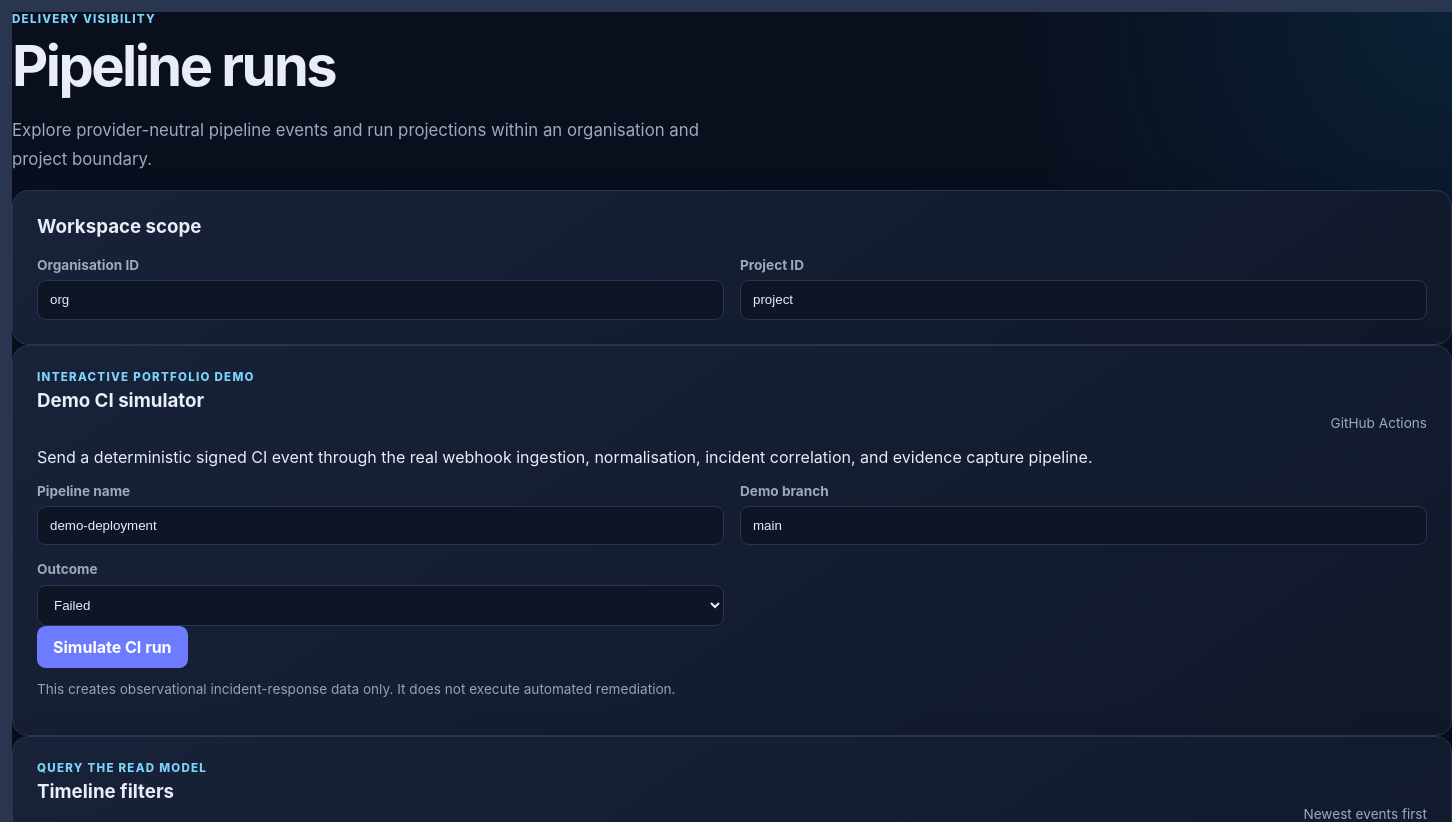
it: Pipeline browser CI simulator › shows the pending state while simulation is running
This screenshot has width=1452, height=822.
Click the button "Simulate CI run" at point(112, 647), box left=37, top=626, right=188, bottom=668
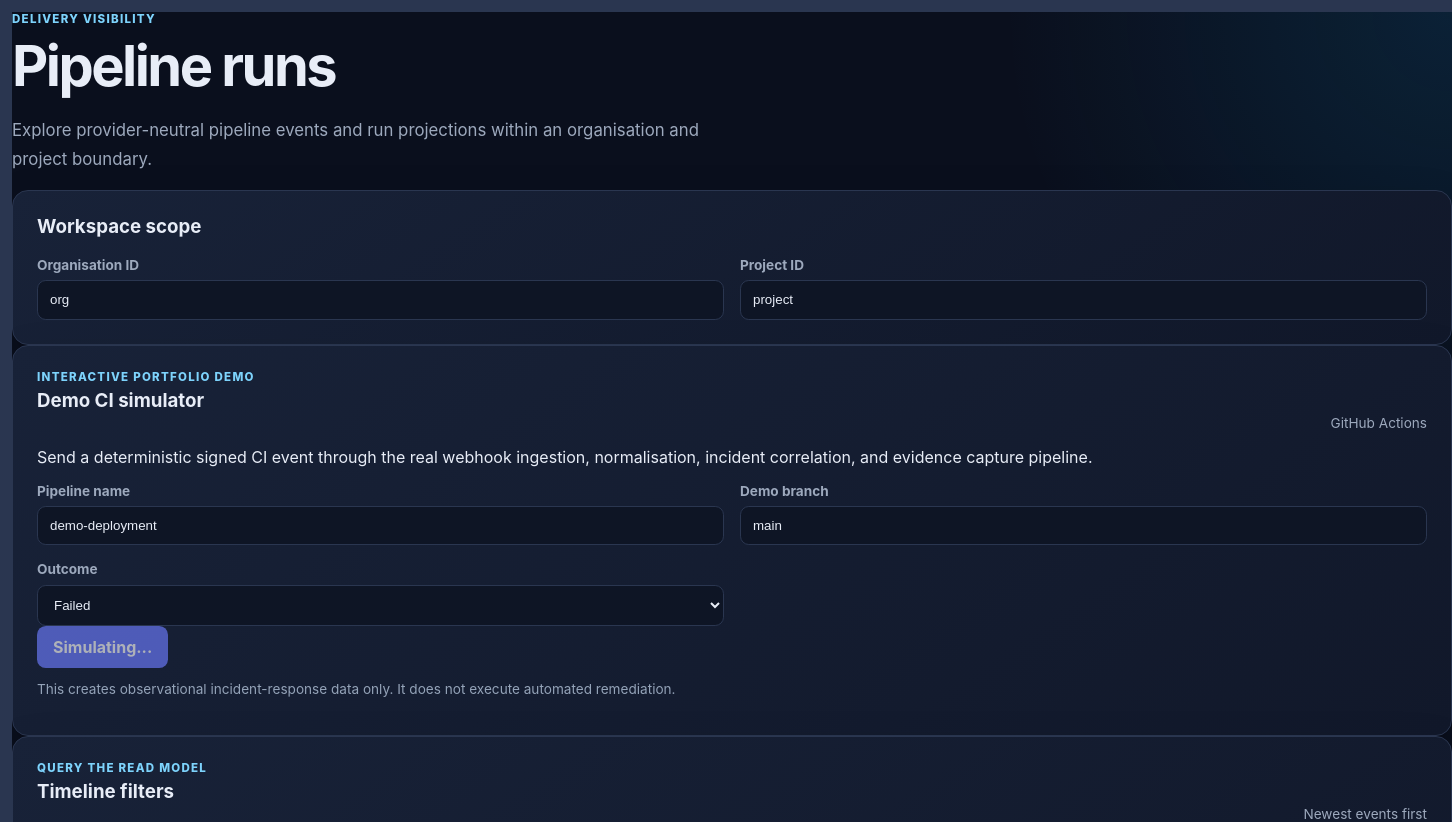
Now the button "Simulating..." is disabled, box left=37, top=626, right=168, bottom=668
